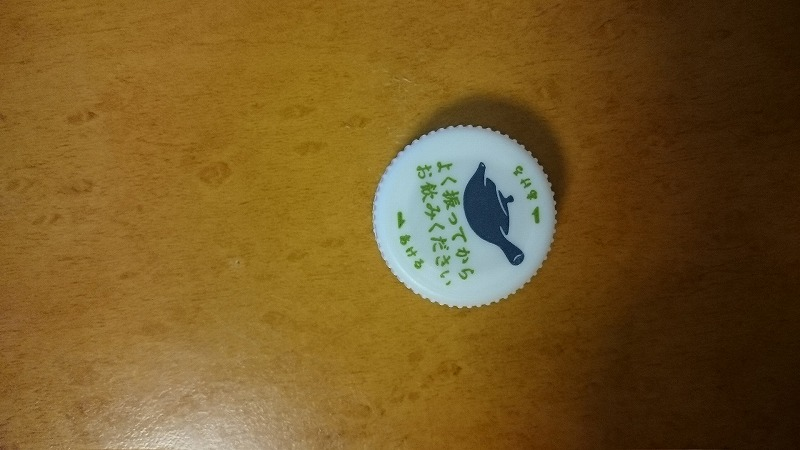A: (358, 117, 565, 314)
